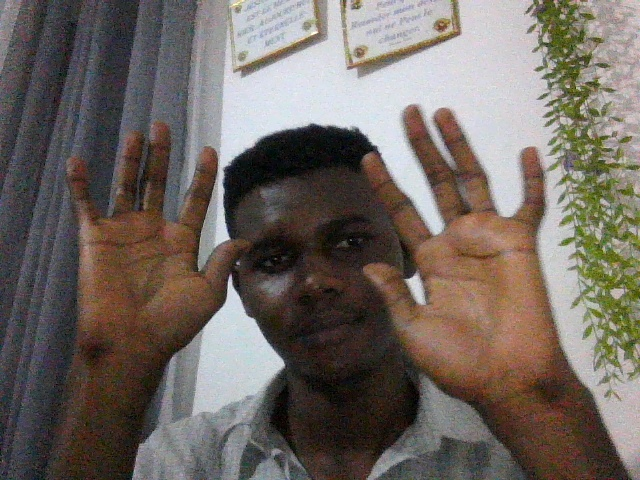hand: (340, 102, 586, 431)
